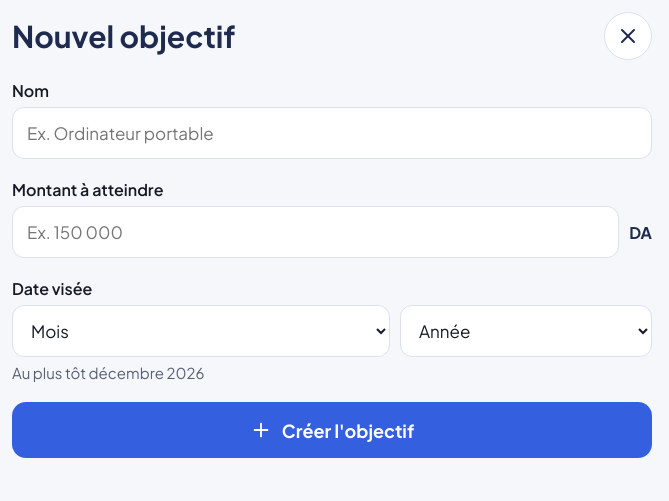
Scenario: GoalForm (création) › montant 0 : message d’un montant de dépense
Type "Vacances" into the field labelled "Nom" at {"x": 332, "y": 133}, box [12,107,652,159]
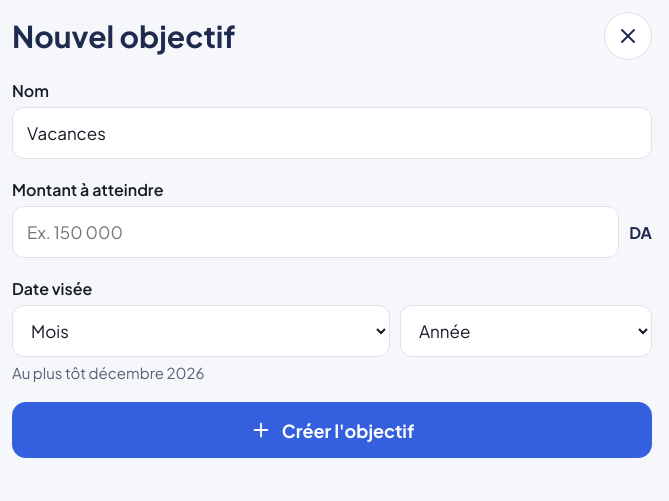
Type "0" into the field labelled "Montant à atteindre" at {"x": 316, "y": 232}, box [12,206,619,258]
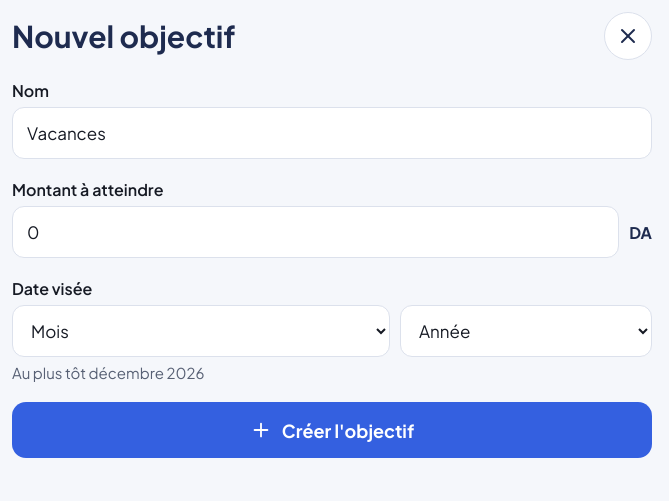
Select "juin" in the dropdown named "Mois visé" at {"x": 201, "y": 331}, box [12,305,390,357]
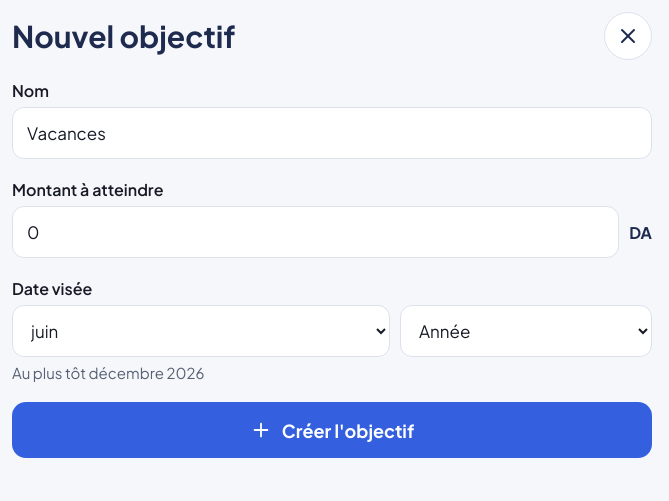
Select "2027" in the dropdown named "Année visée" at {"x": 526, "y": 331}, box [400,305,652,357]
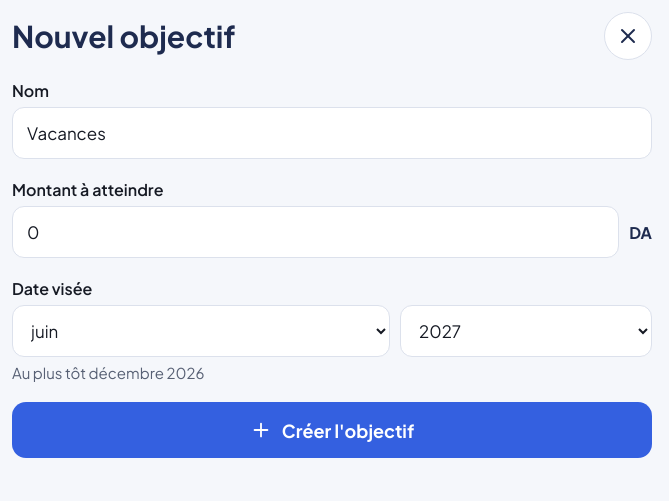
Click the button "Créer l'objectif" at {"x": 332, "y": 430}, box [12,402,652,458]
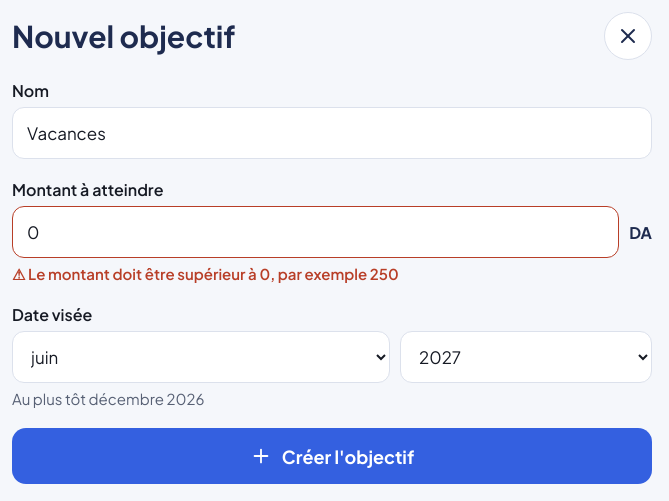
Check: the text "Le montant doit être supérieur à 0, par exemple 250" is shown, box [28,264,399,283]
